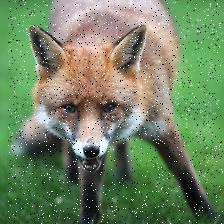fox: (9, 0, 224, 224)
